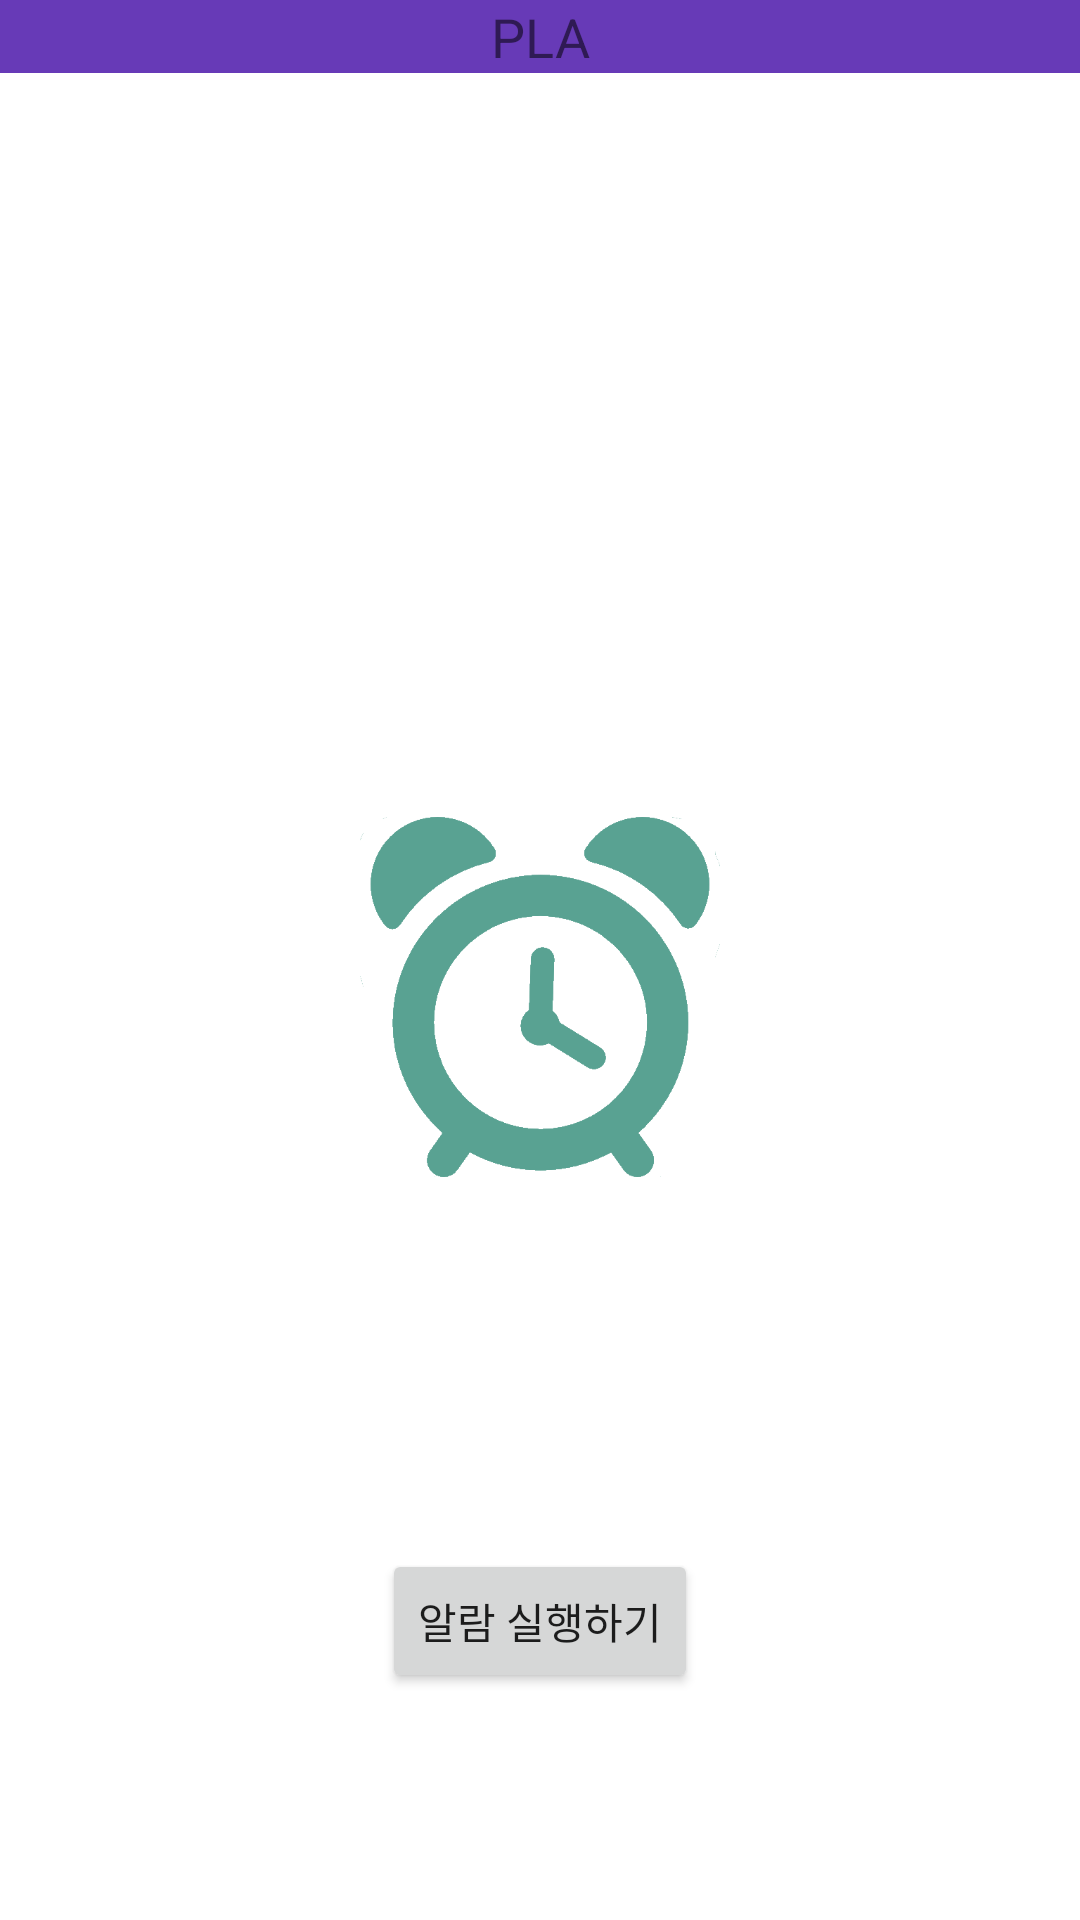

Named icons in this screenshot (1080px x 1920px) and their centers, (x,y):
alaram: (540,997)
